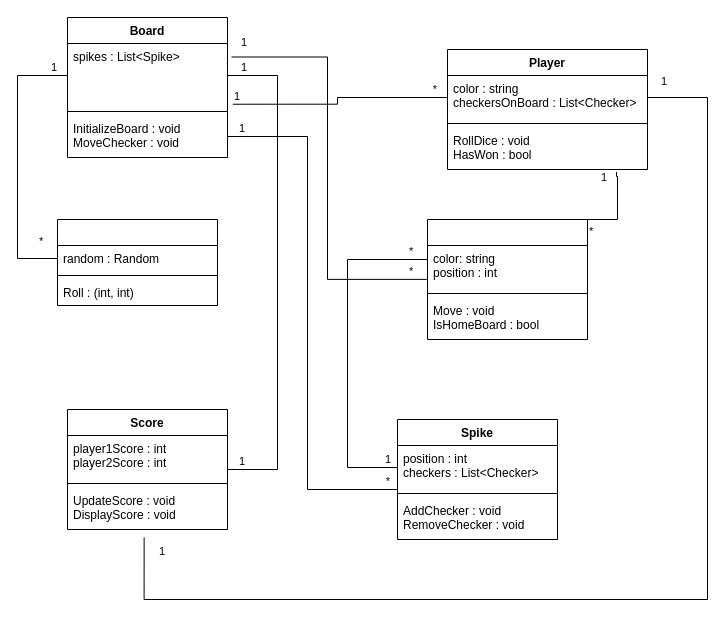
This 726x618 diagram has some shape labels left out. The box of each missing label's shape, as (x1, y1, x2, y2) in pixels:
Checker: (426, 218, 588, 340)
Dice: (56, 218, 218, 306)
